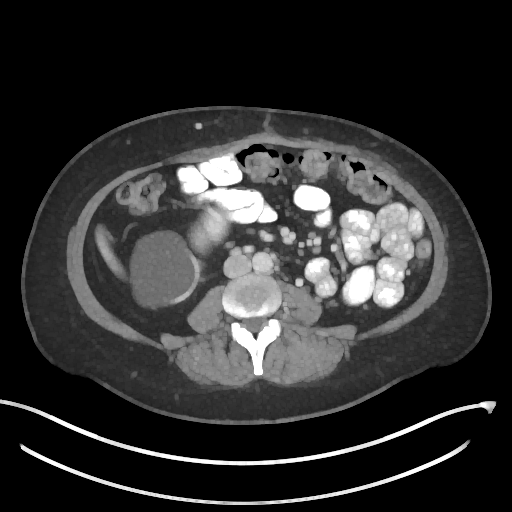Lesion: (129, 228, 197, 311)
